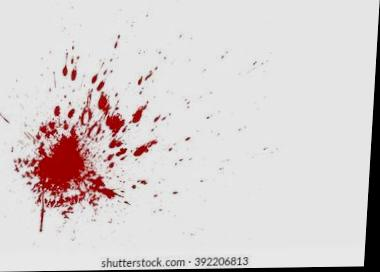Fire: (17, 35, 173, 225)
